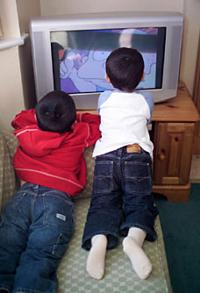person: (82, 48, 158, 282)
